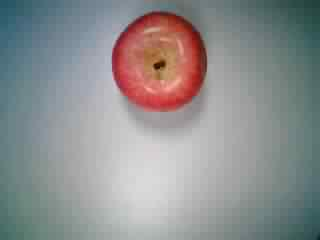apple: (110, 10, 215, 112)
